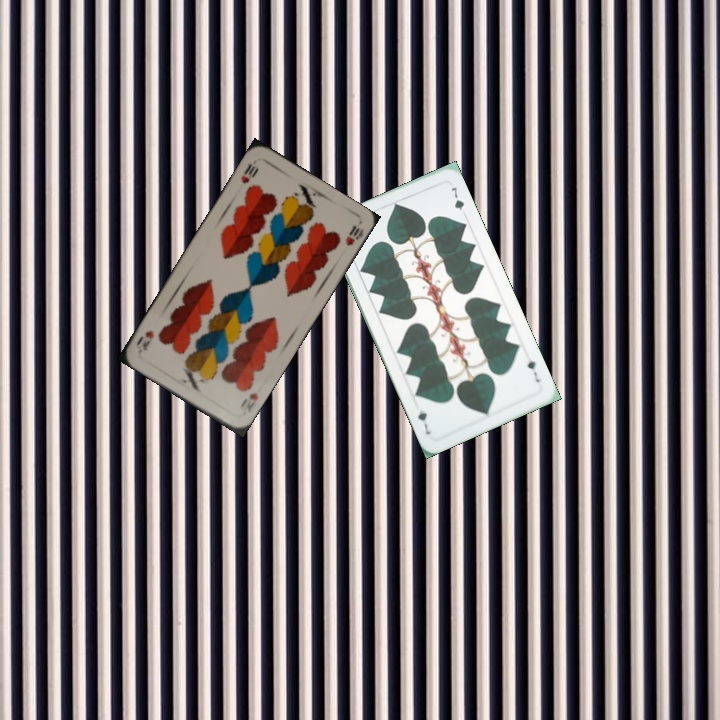G7: (523, 356, 543, 385)
H10: (236, 388, 261, 413), (237, 160, 261, 186)
